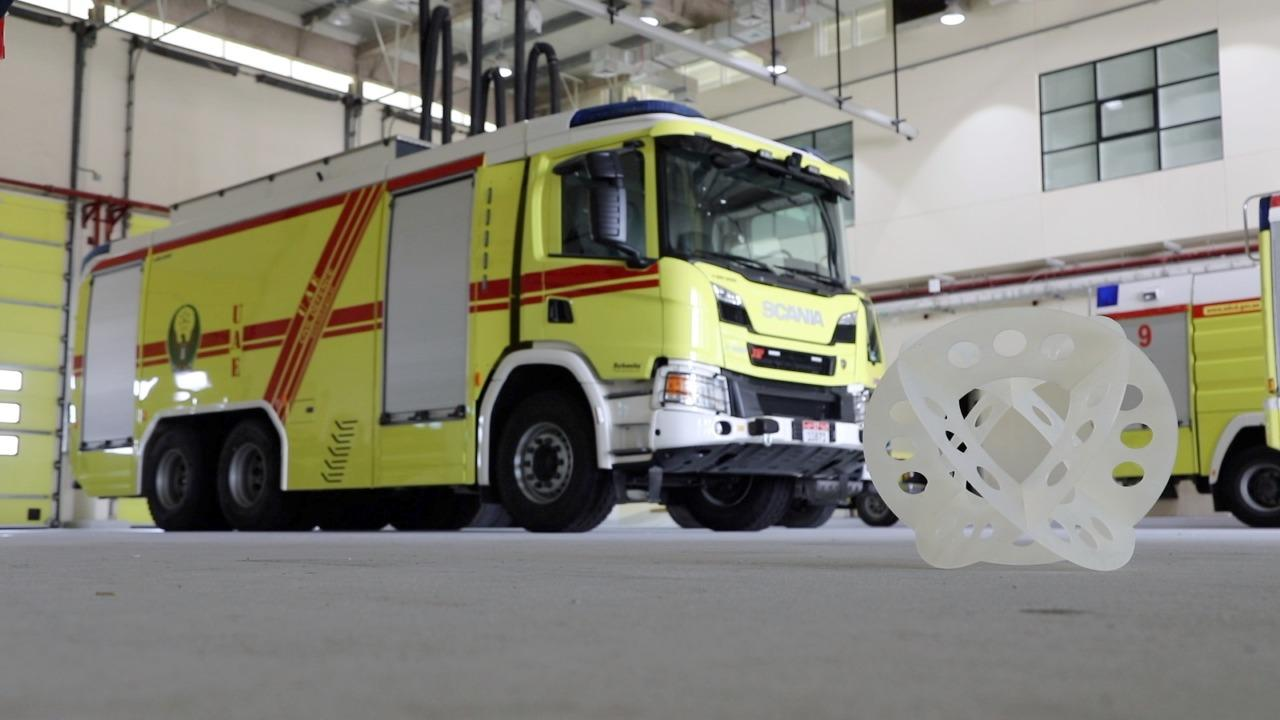firetruck_off: (77, 97, 886, 533)
